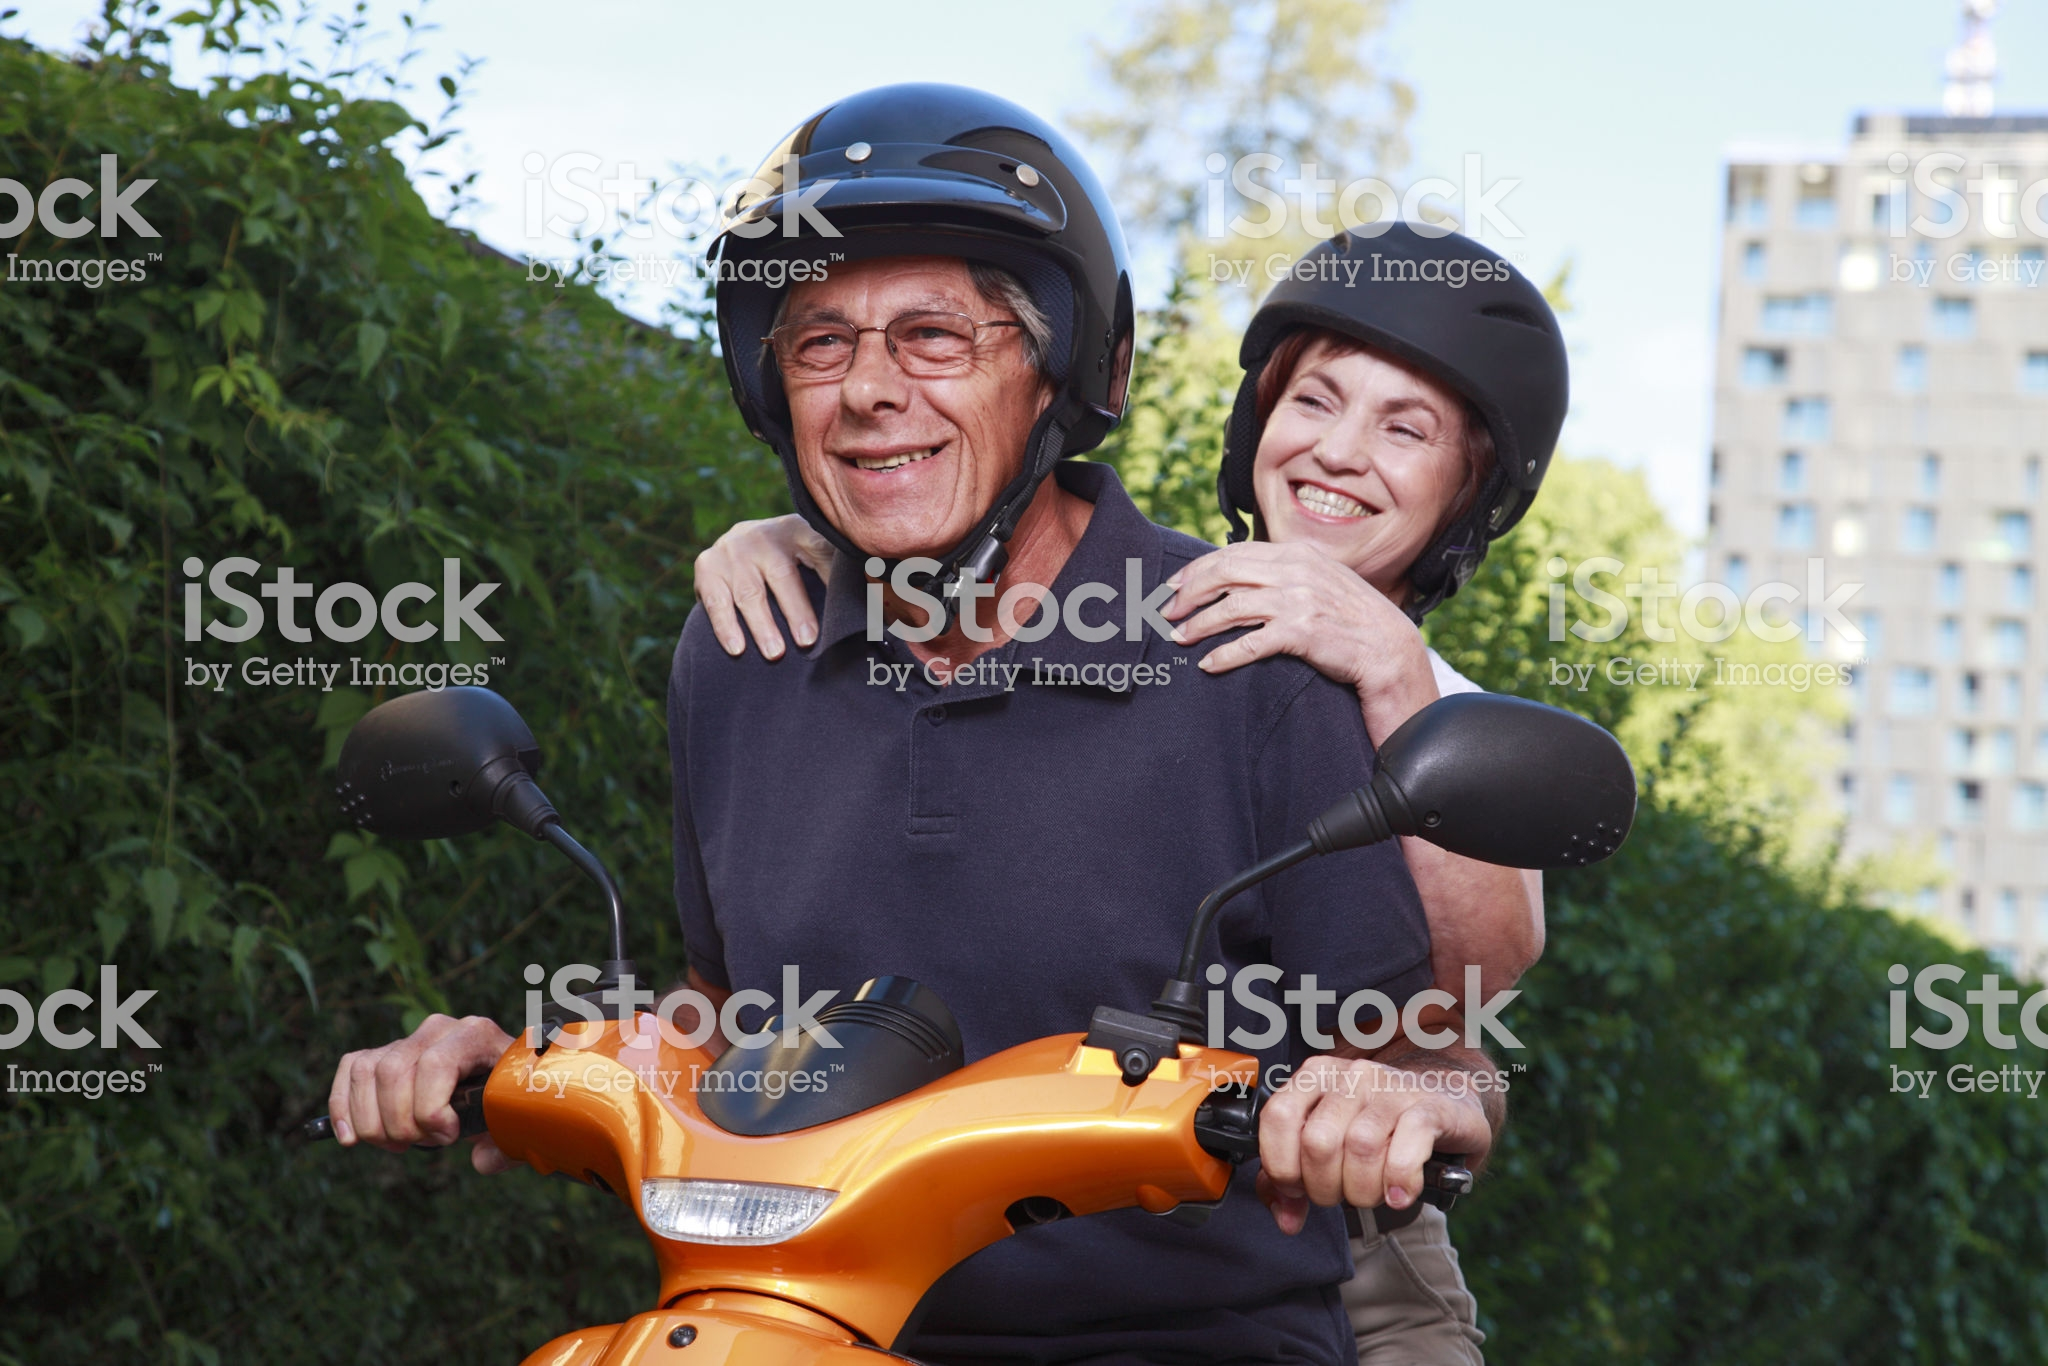helmet: (681, 79, 1152, 396), (1243, 178, 1571, 492)
